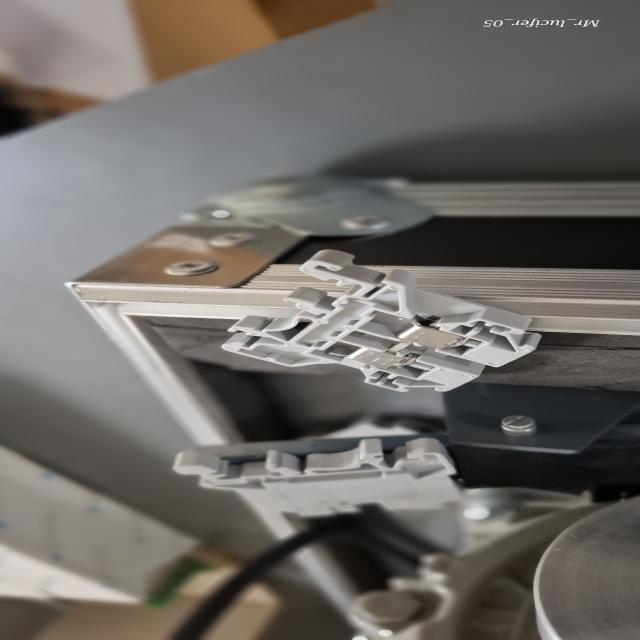Inverted: (168, 438, 470, 516)
Pass: (218, 248, 548, 396)
